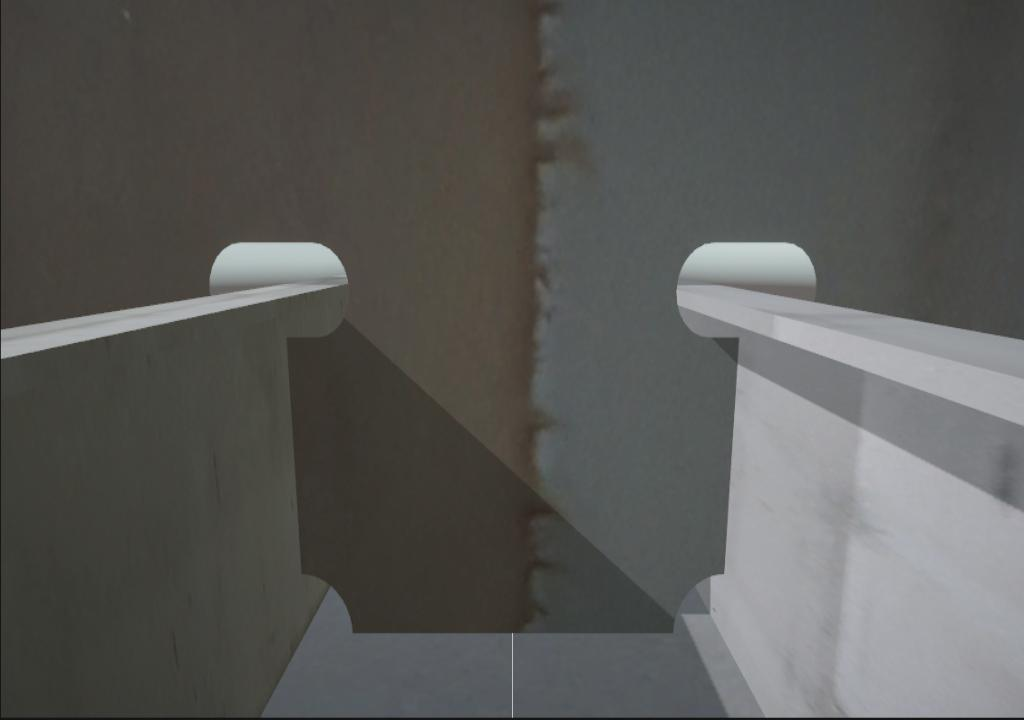fillet_hole: (299, 574, 356, 633), (673, 573, 726, 633)
fillet_yong_jeop_jang: (351, 618, 683, 644)
